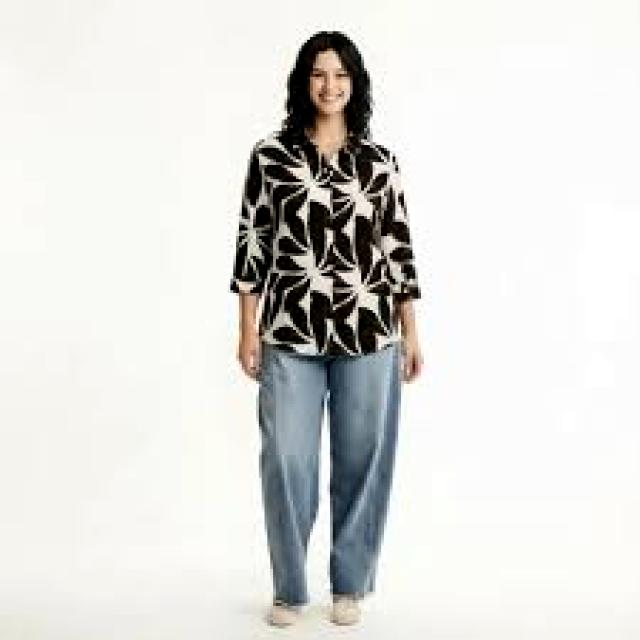face: (308, 49, 352, 116)
foot-wear: (330, 595, 361, 625), (268, 601, 301, 628)
lower-wear: (259, 342, 401, 605)
top-wear: (231, 131, 420, 355)
